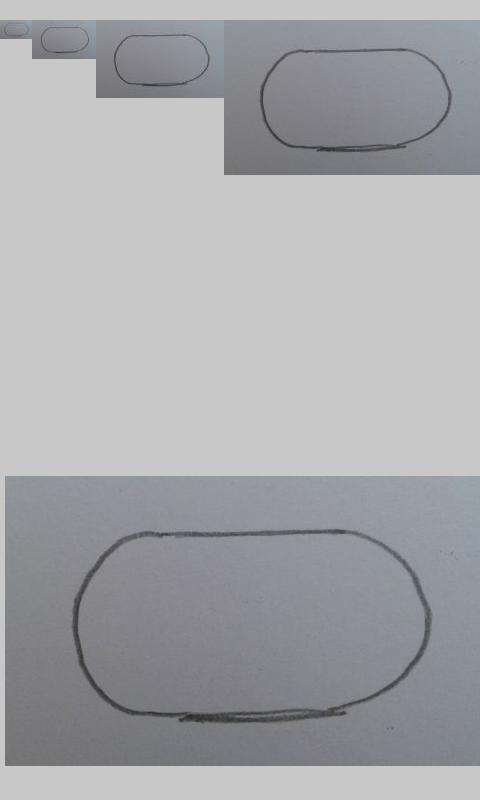chip: (73, 527, 432, 722), (259, 48, 452, 153), (113, 34, 210, 87), (40, 26, 90, 54), (3, 22, 30, 36)
